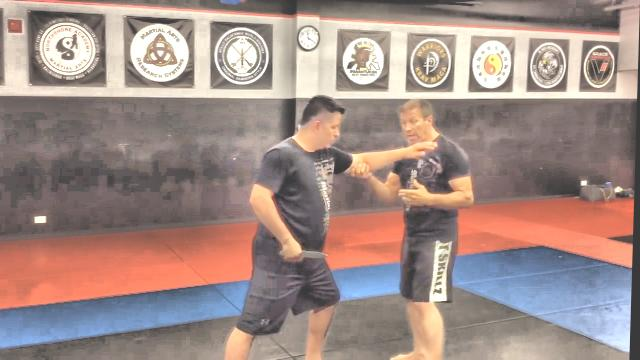knife: (279, 242, 331, 262)
